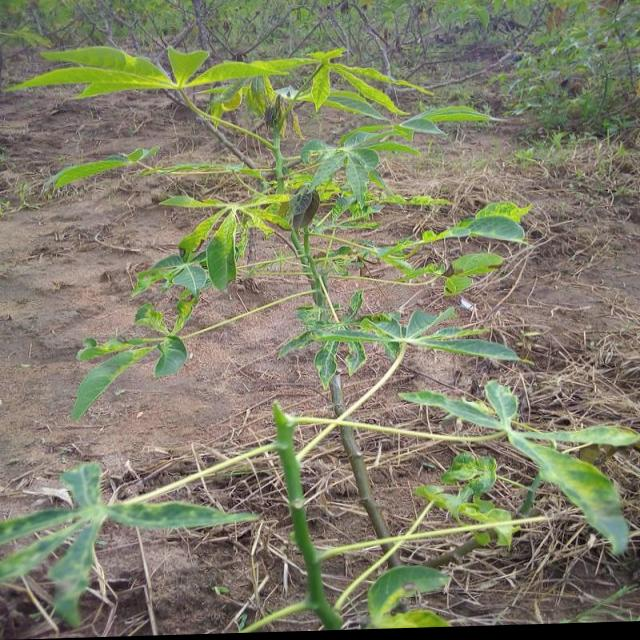Mosaico: (444, 376, 602, 510), (104, 287, 190, 366), (409, 463, 499, 534), (384, 217, 490, 275), (184, 195, 284, 252)
